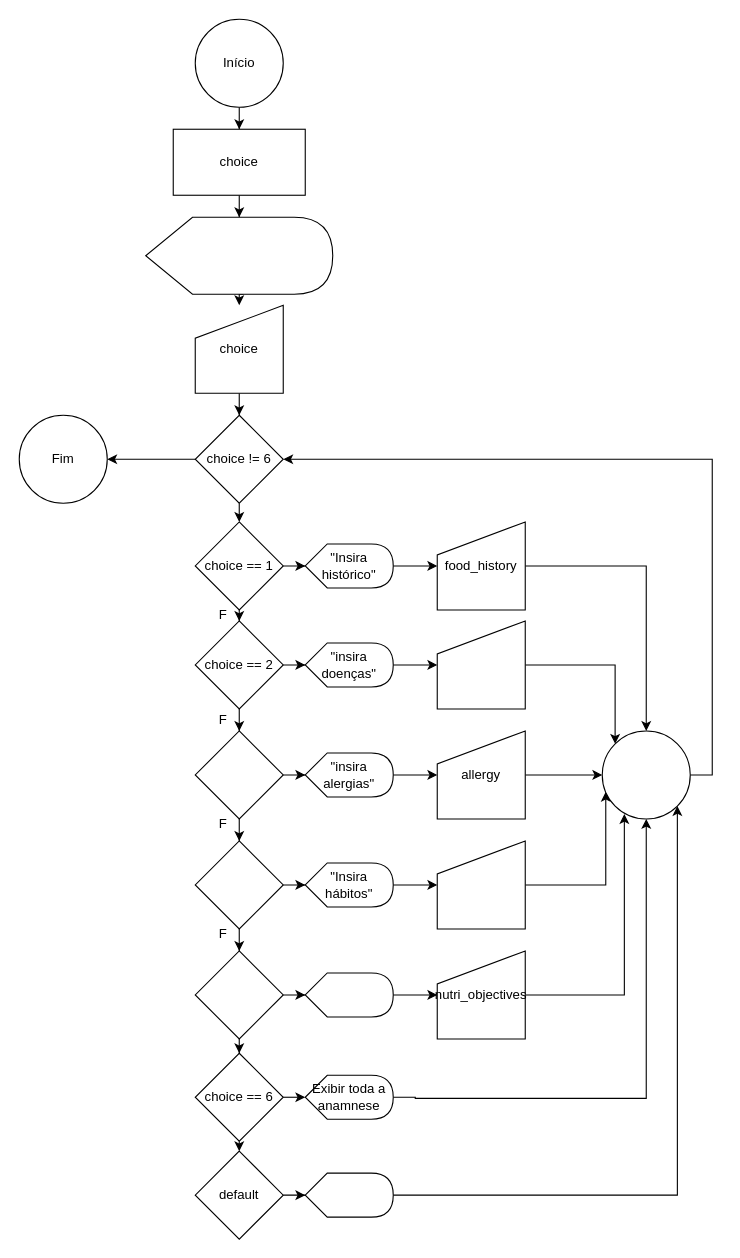
This 740x1258 diagram has some shape labels left out. Here are the shapes that lost their labels. From the top down, the centre of each, then its label:
point (239, 255): menu
point (480, 664): preexisting_ills
point (238, 774): choice == 3
point (238, 884): choice == 4
point (480, 884): life_habbits
point (238, 994): choice == 5
point (348, 994): "Insira objetivos"
point (348, 1194): "Entrada inválida"
